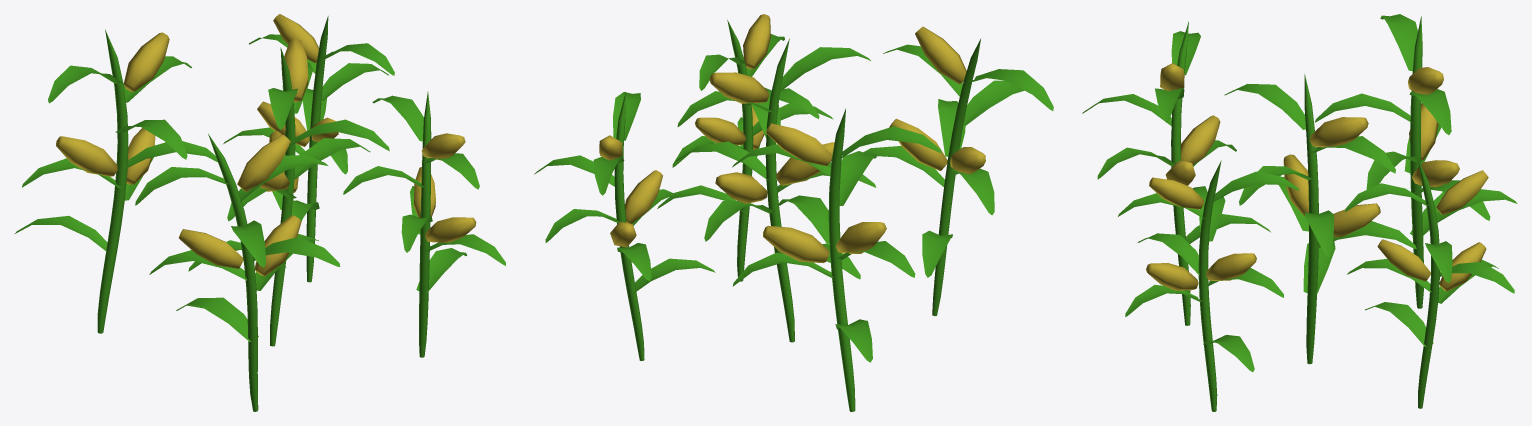
File: corn.fbx
3 renders of one model, left to right at view 1: azimuth 30°, elevation 25°; view 2: azimuth 150°, elevation 25°; view 3: azimuth 270°, elevation 25°, orthographic. The views are drawn at different scales.
Parts seen in each view (by area): view 1: corn; view 2: corn; view 3: corn.
Part boxes in pixels (left/top/right/bottom): corn: left=15, top=14, right=505, bottom=411; corn: left=534, top=14, right=1053, bottom=411; corn: left=1082, top=14, right=1517, bottom=411.
Bounding box in the file's own units: 217 × 162 × 217.
